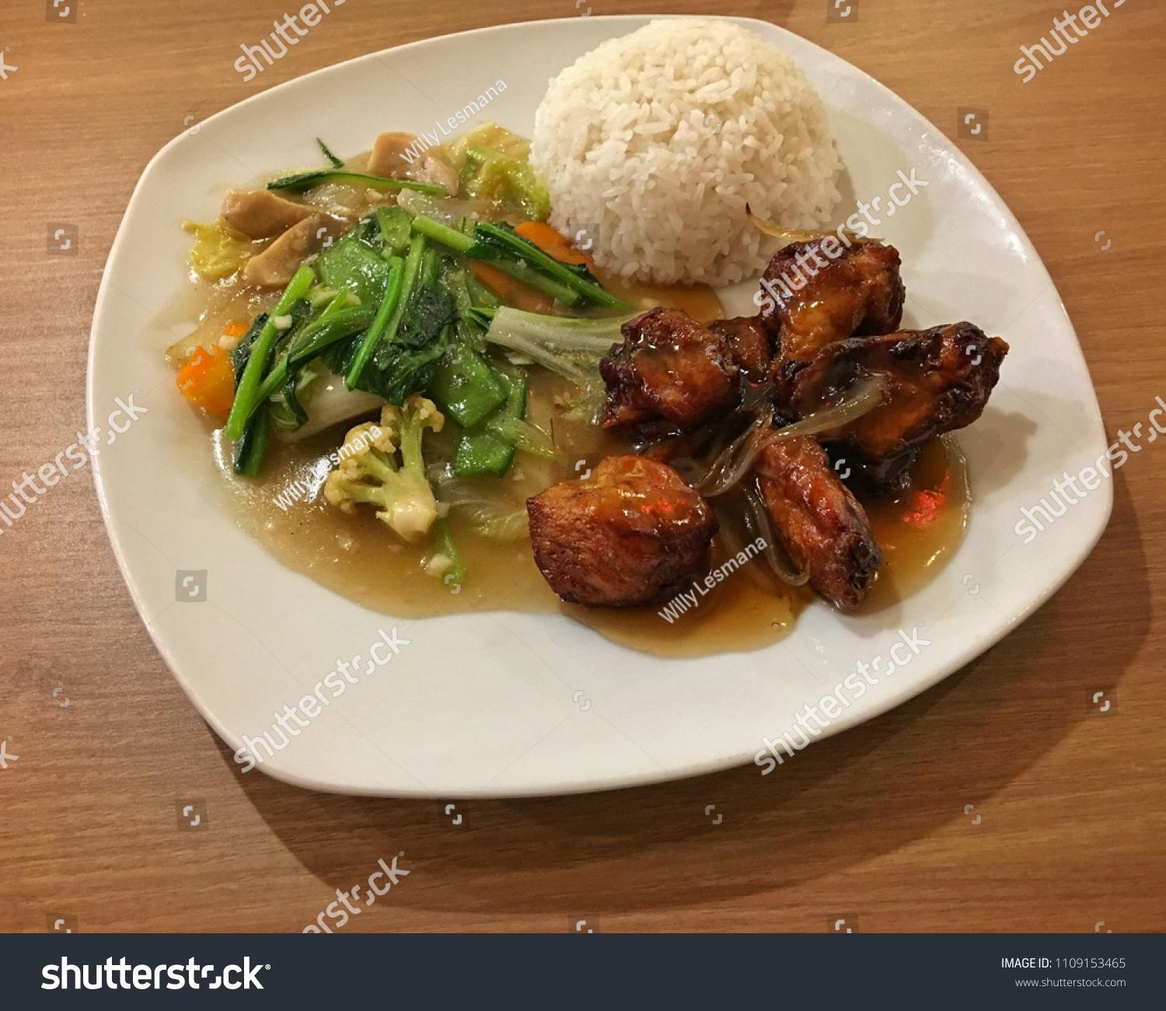buah_sayur_vitA: (252, 217, 553, 367)
daging: (542, 489, 686, 579), (634, 319, 747, 401), (829, 357, 939, 435), (775, 447, 833, 537)
makanan_berpati: (601, 47, 762, 225)
